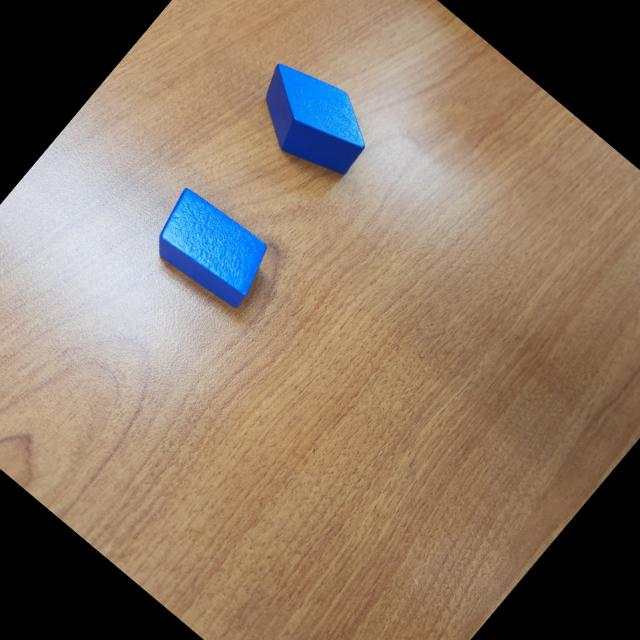blue: (234, 44, 386, 192), (137, 180, 280, 318)
